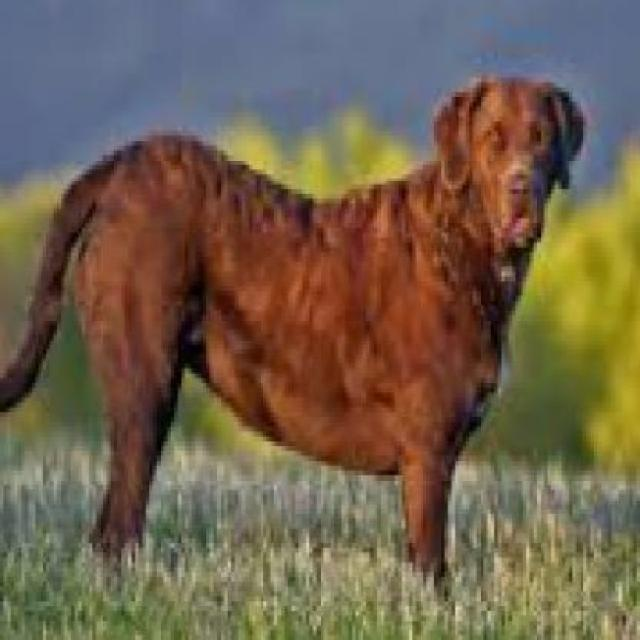Dog: (0, 71, 588, 600)
